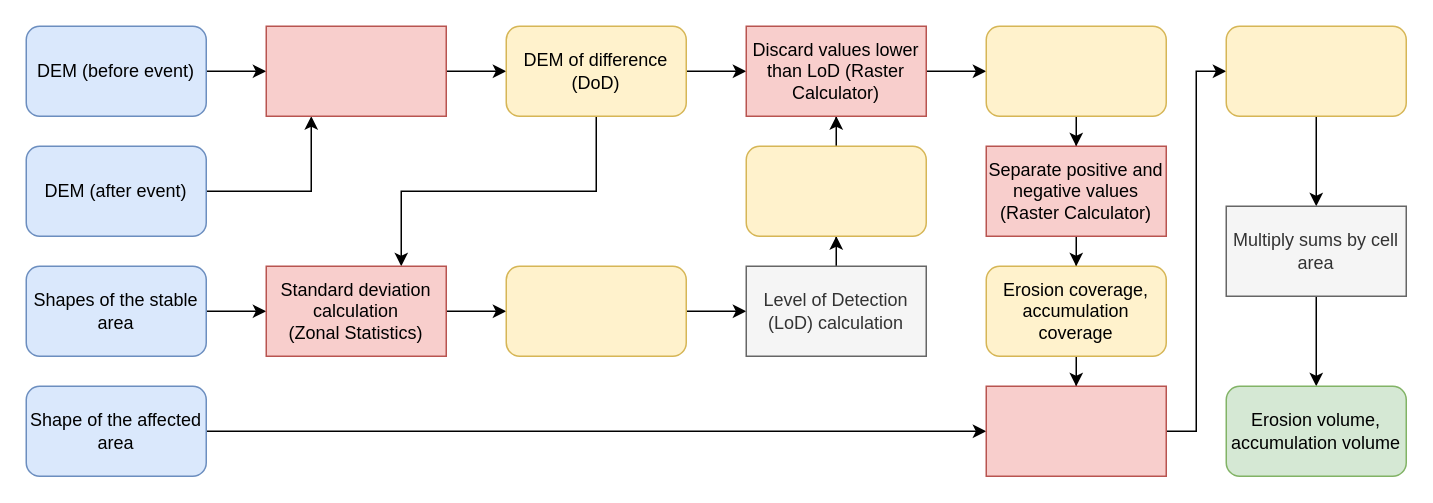
Some shapes in this 1433 by 503 pixel diagram are drawn without their labels. The box of each missing label's shape, as (x1, y1, x2, y2) in pixels:
Difference (Raster Calculator): (265, 25, 446, 116)
Filtered DoD: (985, 25, 1166, 116)
LoD value: (745, 145, 926, 236)
Standard deviation of the background difference: (505, 265, 686, 356)
Sum of positive values, sum of negative values: (1225, 25, 1406, 116)
Summarize values (Zonal Statistics): (985, 385, 1166, 476)
